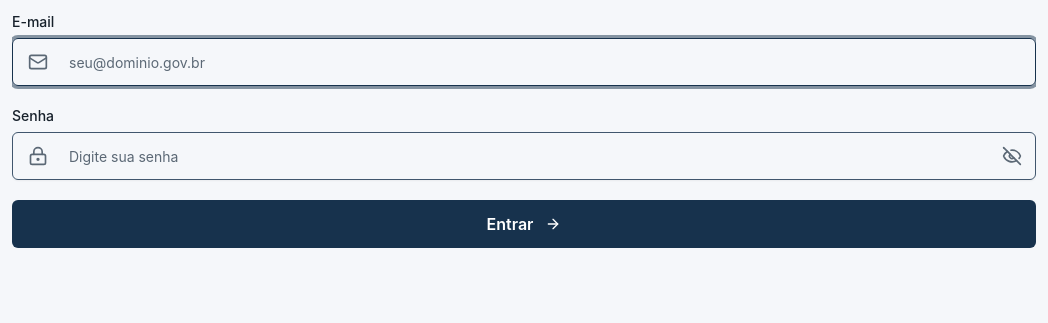
Test: LoginForm › shows one generic, non-disclosing error on failed sign-in regardless of the server detail (FR-007)
Type "user@example.com" into the field labelled "E-mail" at (524, 62), box [12,38,1036,86]
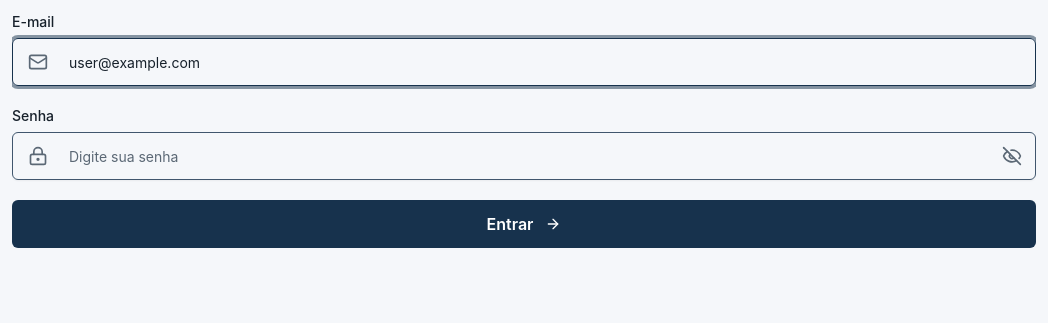
Type "wrong-password" into the password field labelled "Senha" at (524, 156), box [12,132,1036,180]
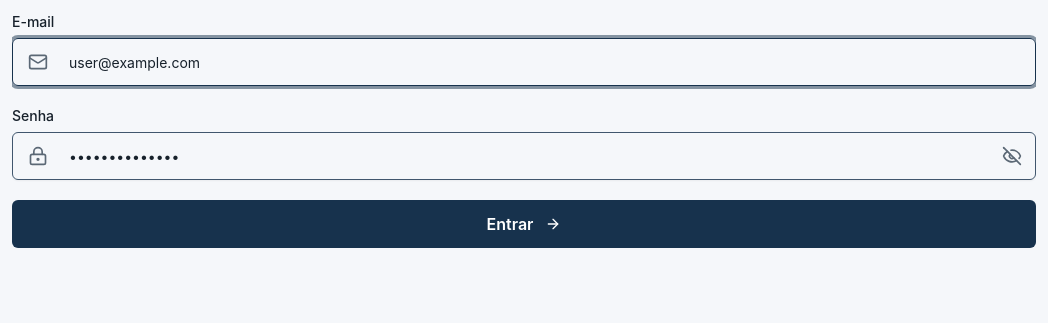
Click the button "Entrar" at (524, 224), box [12,200,1036,248]
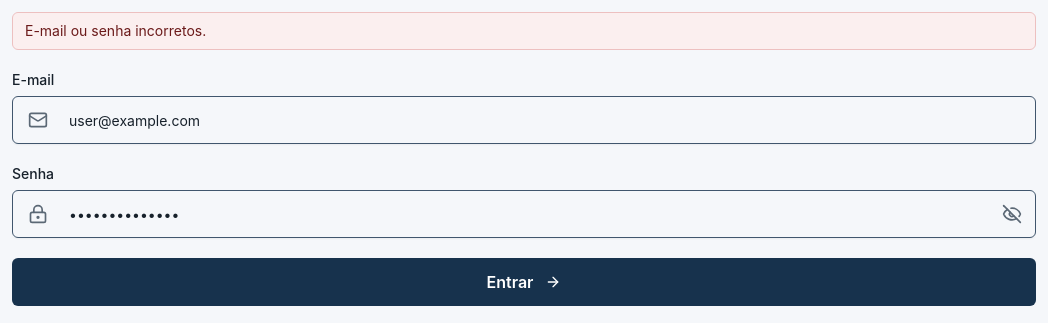
Check: the message does not show "does not exist", box [12,12,1036,50]
Check: the message reads "E-mail ou senha incorretos.", box [25,22,206,39]
